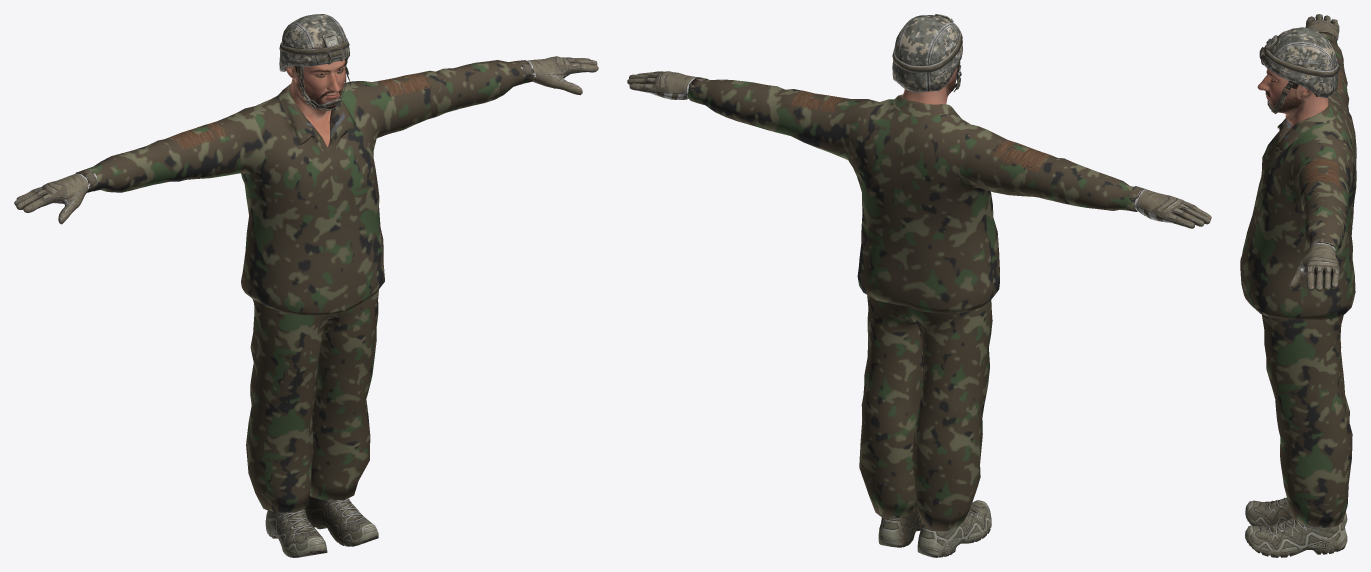
The model's file is military_man_-_army_man_soldier.glb.
3 renders of one model, left to right at view 1: azimuth 30°, elevation 25°; view 2: azimuth 150°, elevation 25°; view 3: azimuth 270°, elevation 25°, orthographic. The views are drawn at different scales.
Parts seen in each view (by area): view 1: Object_7, Object_2, Object_6, Object_3, Object_5, Object_8; view 2: Object_7, Object_2, Object_5, Object_3, Object_6, Object_8; view 3: Object_7, Object_2, Object_5, Object_6, Object_3, Object_8.
Part boxes in pixels (box(x1,y1,x2,y2)): Object_7: box(75, 60, 534, 315); Object_2: box(246, 290, 378, 512); Object_6: box(265, 496, 378, 557); Object_3: box(14, 56, 598, 224); Object_5: box(279, 14, 350, 111); Object_8: box(23, 59, 597, 555); Object_7: box(688, 77, 1146, 313); Object_2: box(859, 295, 992, 531); Object_5: box(892, 14, 962, 92); Object_3: box(627, 71, 1211, 228); Object_6: box(878, 500, 991, 557); Object_8: box(902, 67, 1210, 449); Object_7: box(1240, 31, 1356, 319); Object_2: box(1261, 314, 1352, 527); Object_5: box(1259, 27, 1339, 113); Object_6: box(1245, 497, 1347, 557); Object_3: box(1289, 14, 1339, 291); Object_8: box(1257, 68, 1328, 287).
Bounding box in the file's own units: 213 × 182 × 38.03.
Materials: 7 (7 with a texture image).
